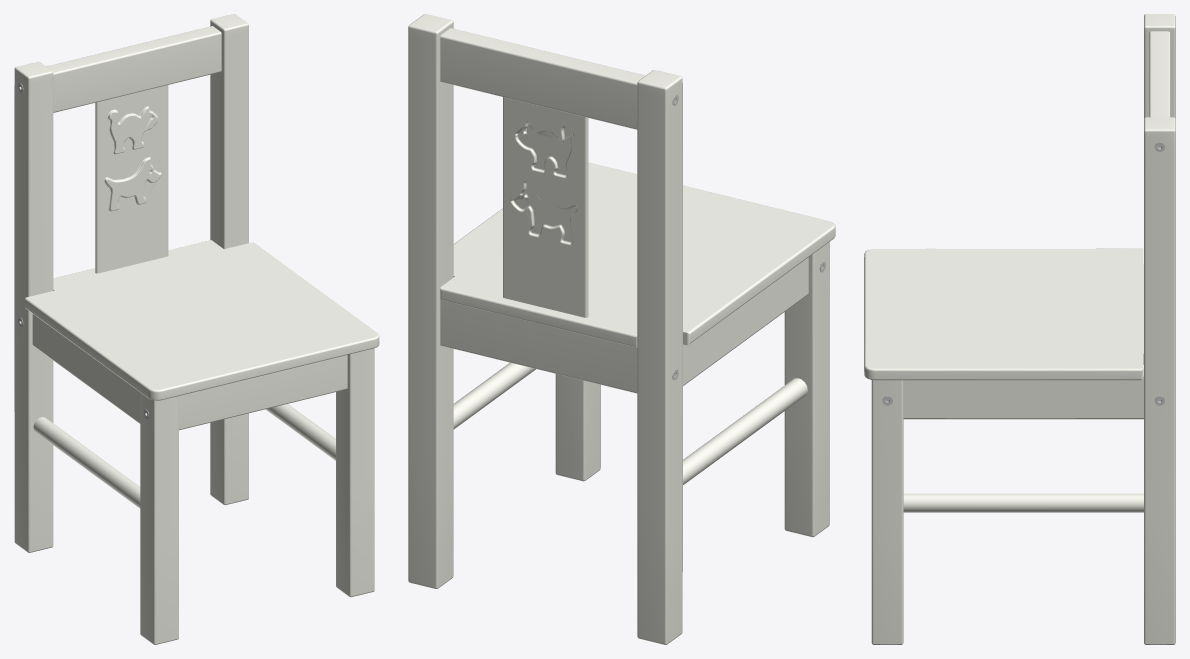
Rendered from kritter_krzeseko_dzieciece_40153699.glb.
3 views of the same model, side by side, from view 1: azimuth 30°, elevation 25°; view 2: azimuth 150°, elevation 25°; view 3: azimuth 270°, elevation 25° (orthographic). The views are drawn at different scales.
Visible parts, largest first — view 1: kritter_krzeseko_dzieciece_40153699; view 2: kritter_krzeseko_dzieciece_40153699; view 3: kritter_krzeseko_dzieciece_40153699.
Part boxes in pixels (x1,y1,x2,y2): kritter_krzeseko_dzieciece_40153699: [14, 14, 379, 644]; kritter_krzeseko_dzieciece_40153699: [408, 14, 835, 644]; kritter_krzeseko_dzieciece_40153699: [864, 14, 1175, 644].
Size of the model in its own units: 0.27 by 0.535 by 0.293.
1 material, 1 textured.
